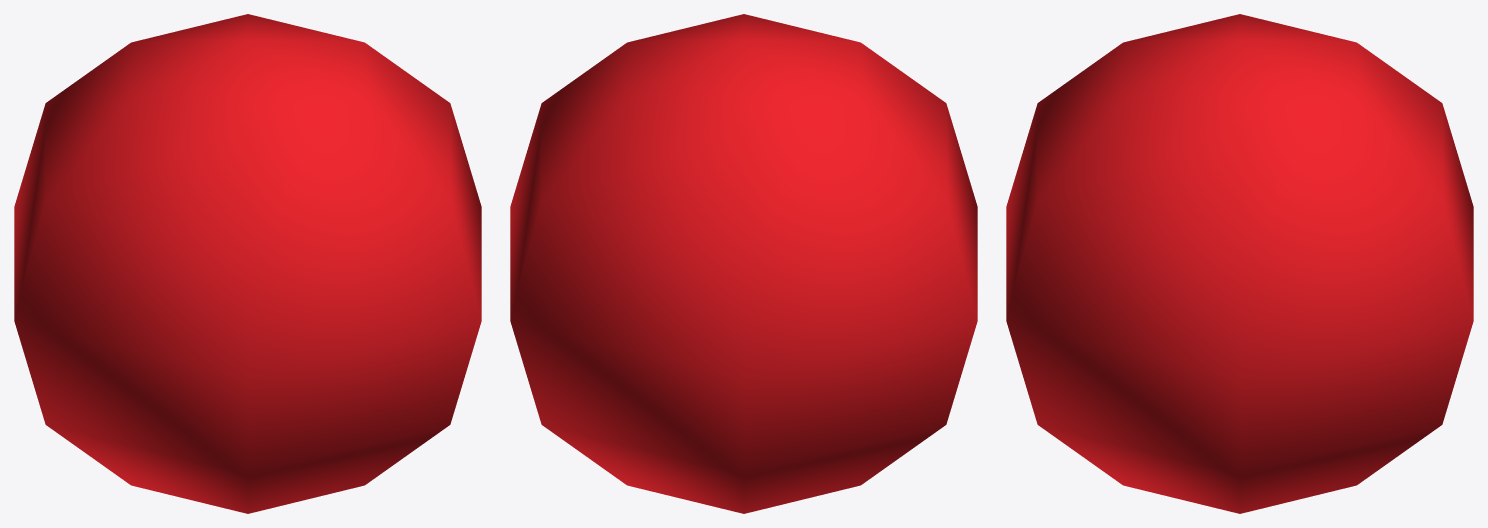
Rendered from MM_GiantGumball.fbx.
3 views of the same model, side by side, from view 1: azimuth 30°, elevation 25°; view 2: azimuth 150°, elevation 25°; view 3: azimuth 270°, elevation 25° (orthographic).
Visible parts, largest first — view 1: MM_GiantGumball; view 2: MM_GiantGumball; view 3: MM_GiantGumball.
Part boxes in pixels (left/top/right/bottom): MM_GiantGumball: left=14, top=14, right=481, bottom=513; MM_GiantGumball: left=510, top=14, right=977, bottom=513; MM_GiantGumball: left=1006, top=14, right=1473, bottom=513.
Bounding box in the file's own units: 62.64 × 57.07 × 54.24.
